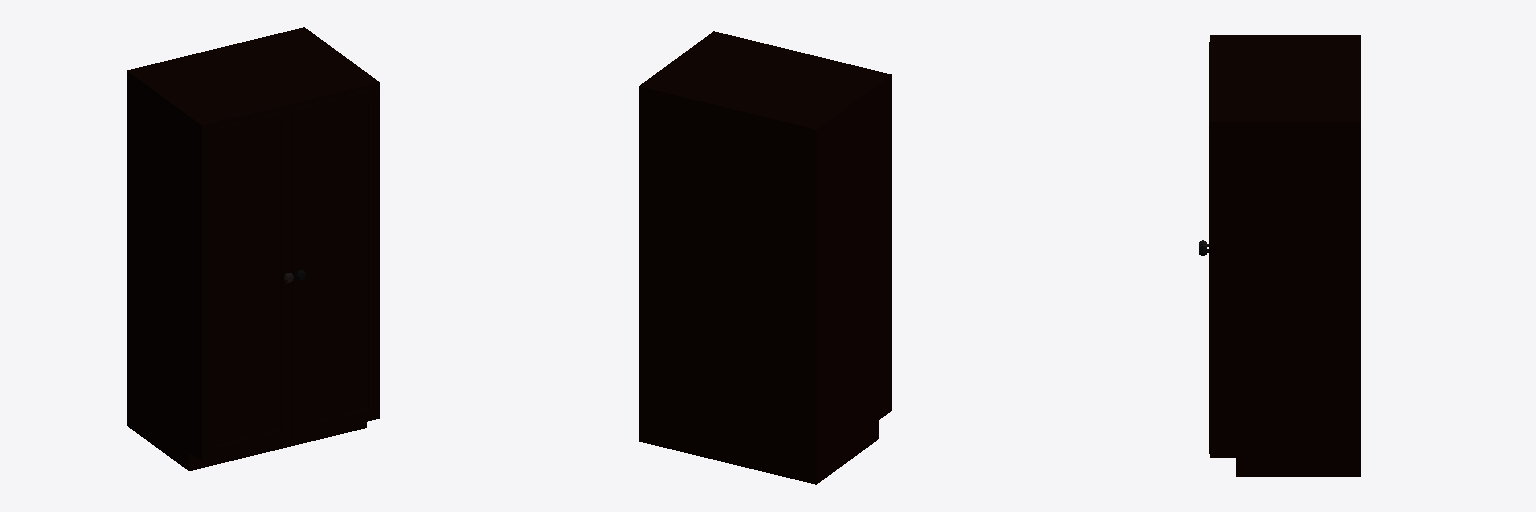
File: DoubleDoorTallCabinet1.obj
The picture shows the model from 3 angles: view 1: azimuth 30°, elevation 25°; view 2: azimuth 150°, elevation 25°; view 3: azimuth 270°, elevation 25°; orthographic projection.
Parts seen in each view (by area): view 1: DoubleDoorTallCabinet1_Cube.002, DoorR1DoubleDoorTallCabinet1_Cube.001, DoorL1DoubleDoorTallCabinet1_Cube.004; view 2: DoubleDoorTallCabinet1_Cube.002; view 3: DoubleDoorTallCabinet1_Cube.002.
Part boxes in pixels (x1,y1,x2,y2): DoubleDoorTallCabinet1_Cube.002: (127, 27, 379, 470); DoorR1DoubleDoorTallCabinet1_Cube.001: (205, 110, 293, 458); DoorL1DoubleDoorTallCabinet1_Cube.004: (292, 89, 377, 437); DoubleDoorTallCabinet1_Cube.002: (639, 31, 891, 484); DoubleDoorTallCabinet1_Cube.002: (1210, 35, 1360, 476).
Size of the model in its own units: 0.9371 by 1.79 by 0.7366.